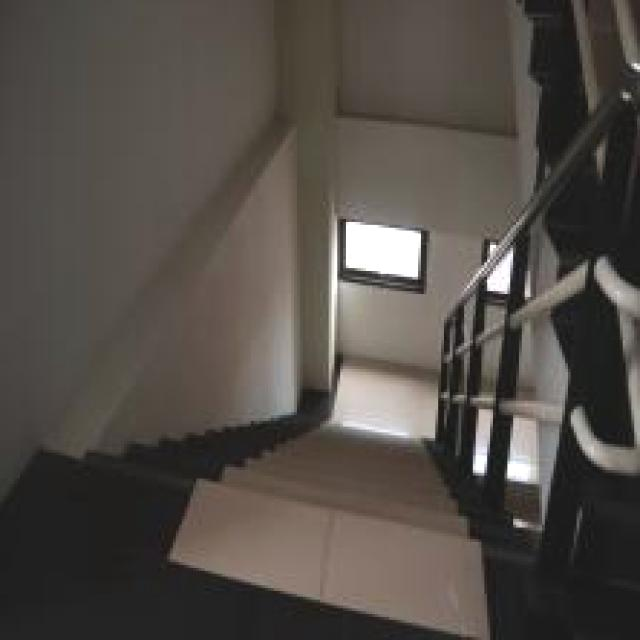downstair: (249, 442, 433, 589)
